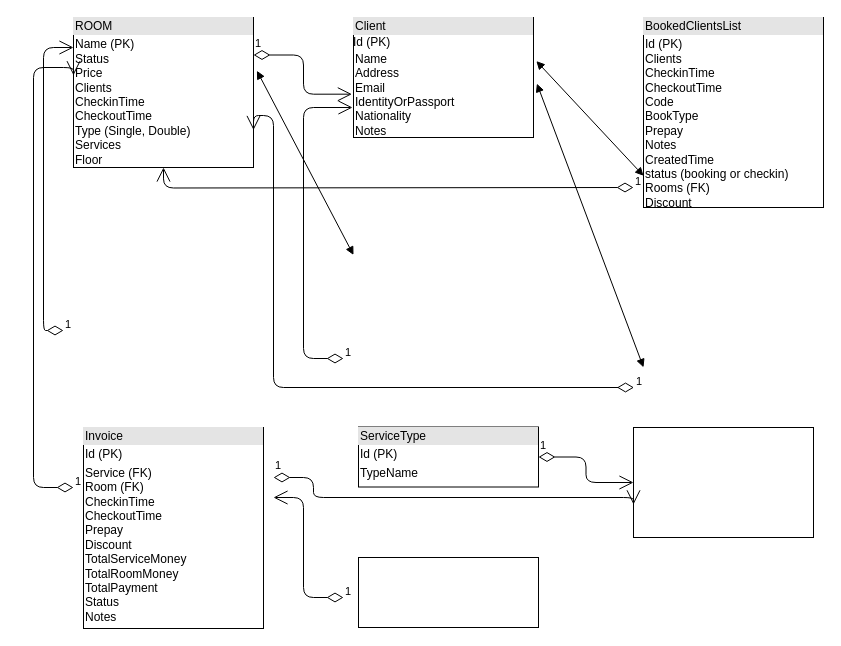
The diagram is 841 pixels wide and 646 high, and some of its shapes have lost their labels. The shapes that lost their labels are listed below. From the top down, each one's centre as x and y in pixels, then its label:
At (723,482): "Service Id (PK) TypeId (FK) Price Quantity Name TotalMoney".
At (448,592): "Paybook Id (PK) InvoiceId (FK)".
